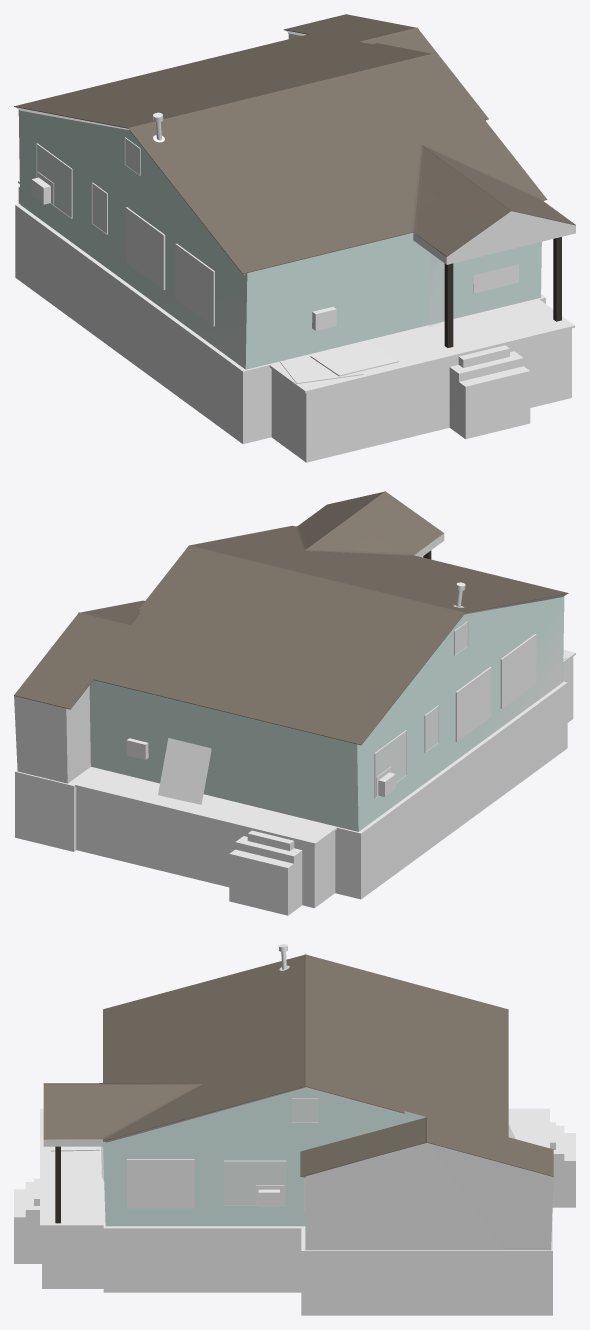
Rendered from house_small1.dae.
The picture shows the model from 3 angles, top to bottom: view 1: azimuth 30°, elevation 25°; view 2: azimuth 150°, elevation 25°; view 3: azimuth 270°, elevation 25°; orthographic projection. The views are drawn at different scales.
Parts seen in each view (by area): view 1: house_small1_a600, house_small1_a150, house_small1_a30, Colmesh-1; view 2: house_small1_a150, house_small1_a600, house_small1_a30, Colmesh-1; view 3: house_small1_a600, house_small1_a30, house_small1_a150, Colmesh-1.
Boxes of the visible parts, x1,y1,x2,y2 form: house_small1_a600: (14,27,575,462); house_small1_a150: (14,28,567,462); house_small1_a30: (18,14,575,369); Colmesh-1: (16,30,571,462); house_small1_a150: (15,494,573,915); house_small1_a600: (14,491,575,914); house_small1_a30: (14,528,564,831); Colmesh-1: (75,552,572,907); house_small1_a600: (14,944,575,1315); house_small1_a30: (43,1011,553,1250); house_small1_a150: (14,955,547,1315); Colmesh-1: (42,1087,547,1288).
Bounding box in the file's own units: 9.23 × 14 × 6.13.
